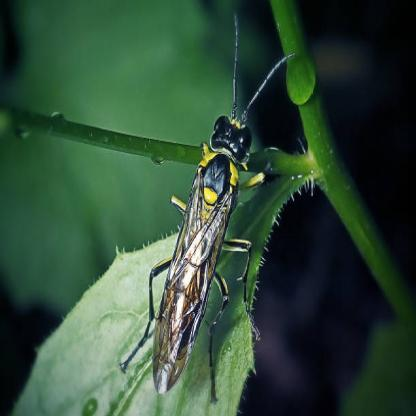sawfly: (110, 10, 298, 399)
